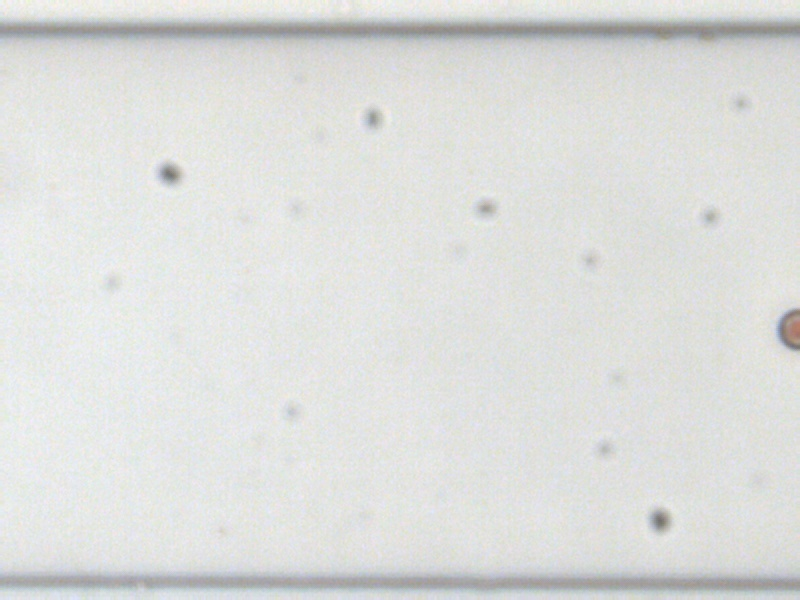Porphyridium: (776, 308, 799, 350)
